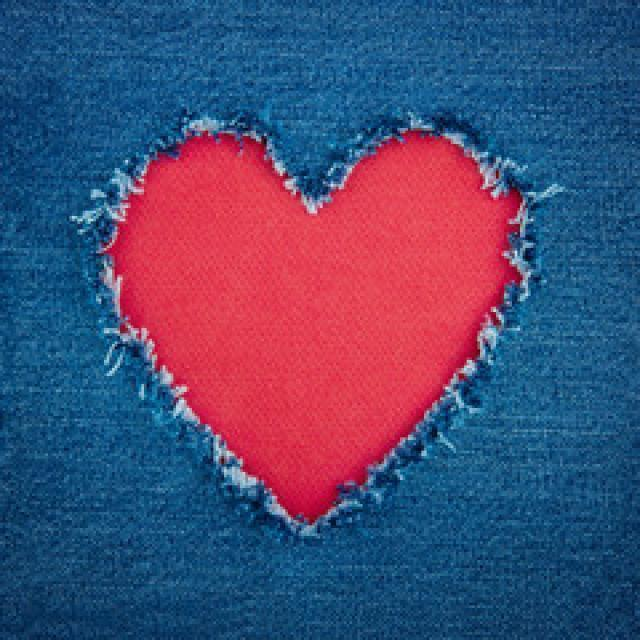Hole: (109, 131, 521, 522)
